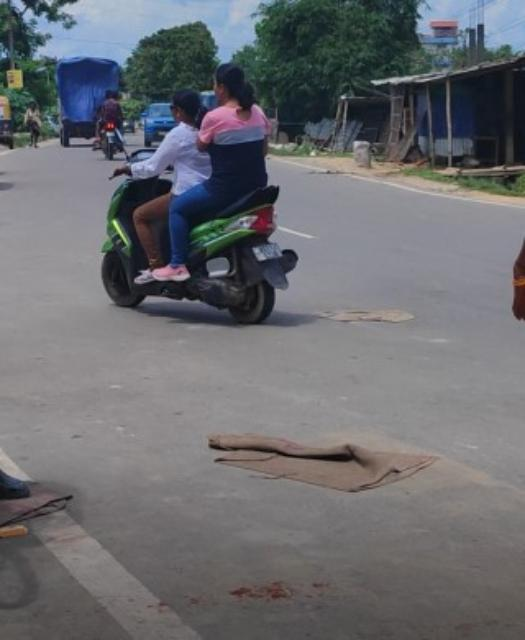licensePlate: (252, 245, 287, 265)
motorcycle: (101, 56, 295, 324)
withoutHelmet: (207, 59, 249, 103), (168, 93, 202, 128)
